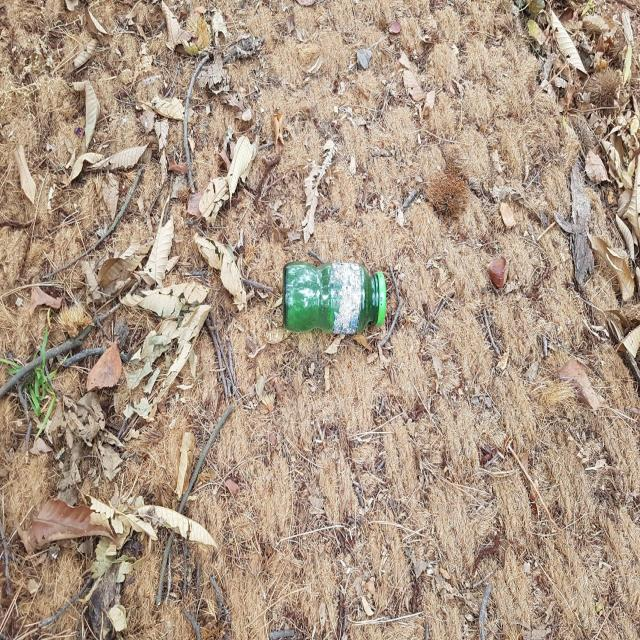glass: (282, 261, 387, 333)
